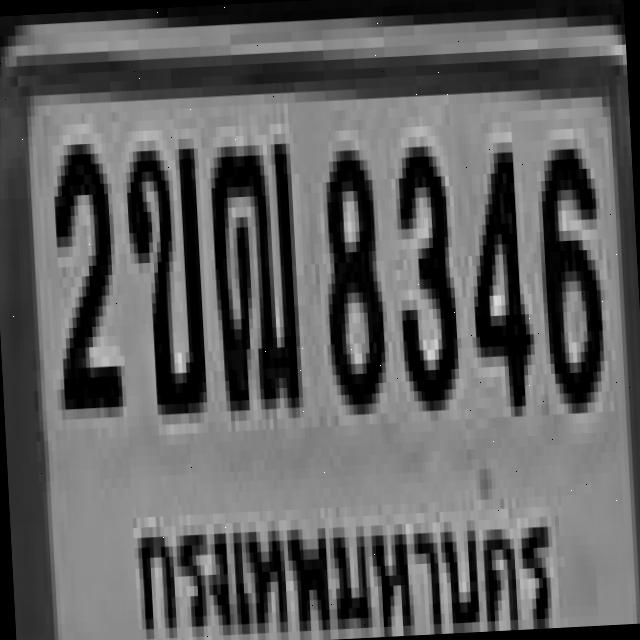11KhorKhai: (120, 134, 204, 400)
2: (46, 133, 117, 400)
27ThorPhuThao: (204, 128, 300, 406)
3: (389, 136, 456, 402)
4: (462, 132, 530, 408)
6: (532, 138, 602, 405)
8: (316, 140, 384, 406)
Bangkok: (123, 479, 558, 640)
